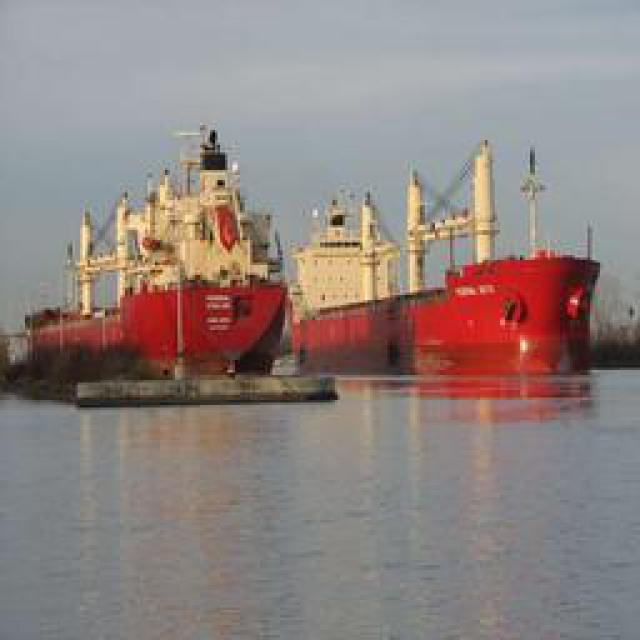Ship: (18, 110, 296, 385), (299, 154, 605, 386)
